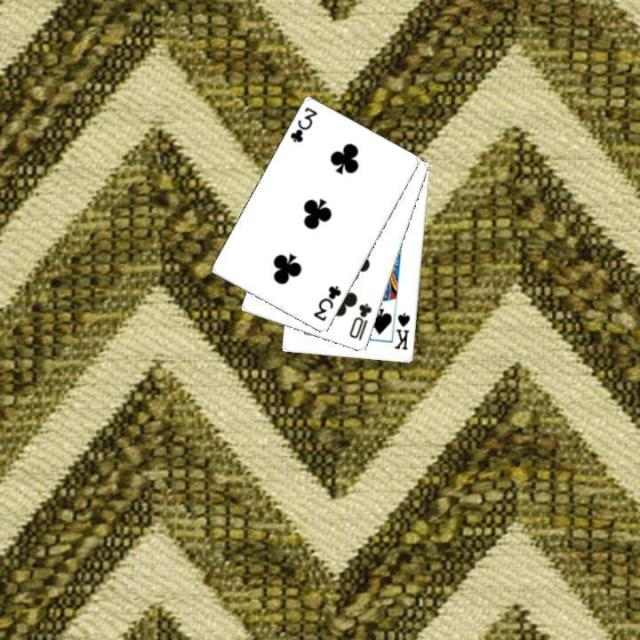10C: (346, 300, 374, 343)
3C: (309, 282, 343, 324), (286, 103, 319, 145)
KS: (391, 308, 413, 352)
